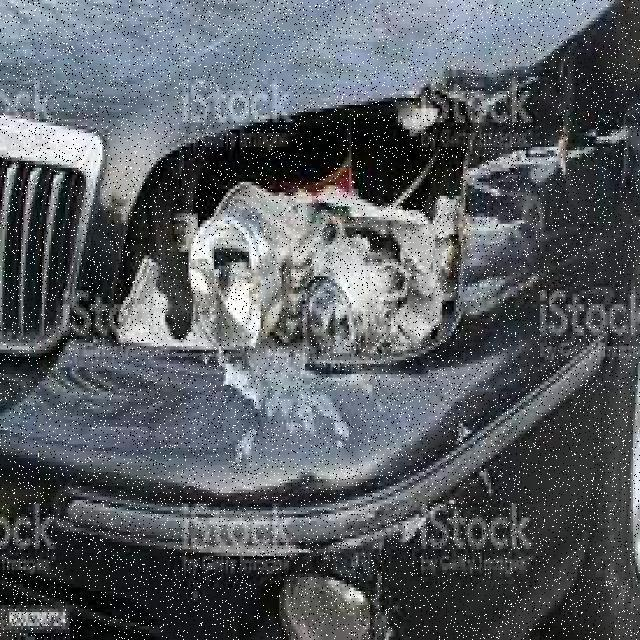Headlight-Damage: (130, 104, 487, 360)
fender-dent: (440, 0, 638, 420)
front-bumper-dent: (0, 332, 638, 637)
